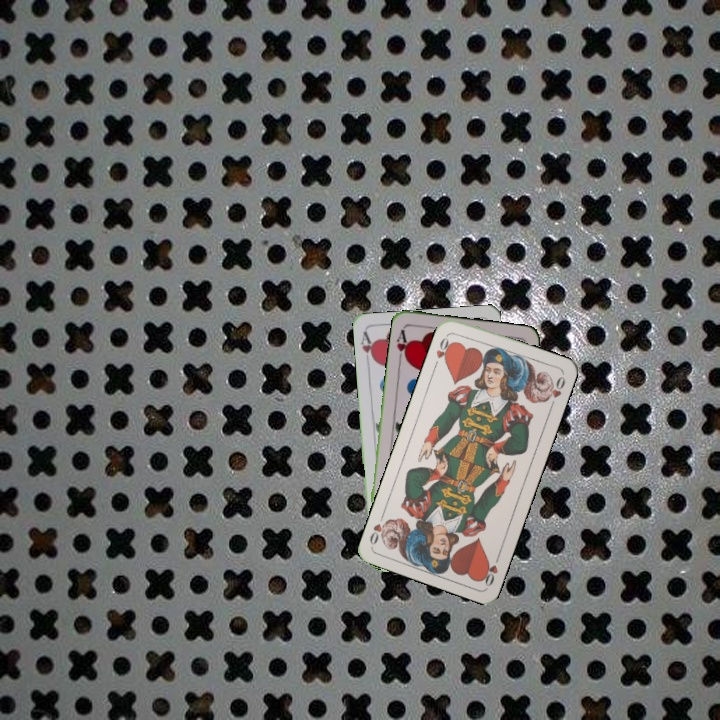HA: (357, 328, 378, 368), (393, 325, 412, 365)
HO: (478, 549, 503, 589), (430, 331, 455, 370)
